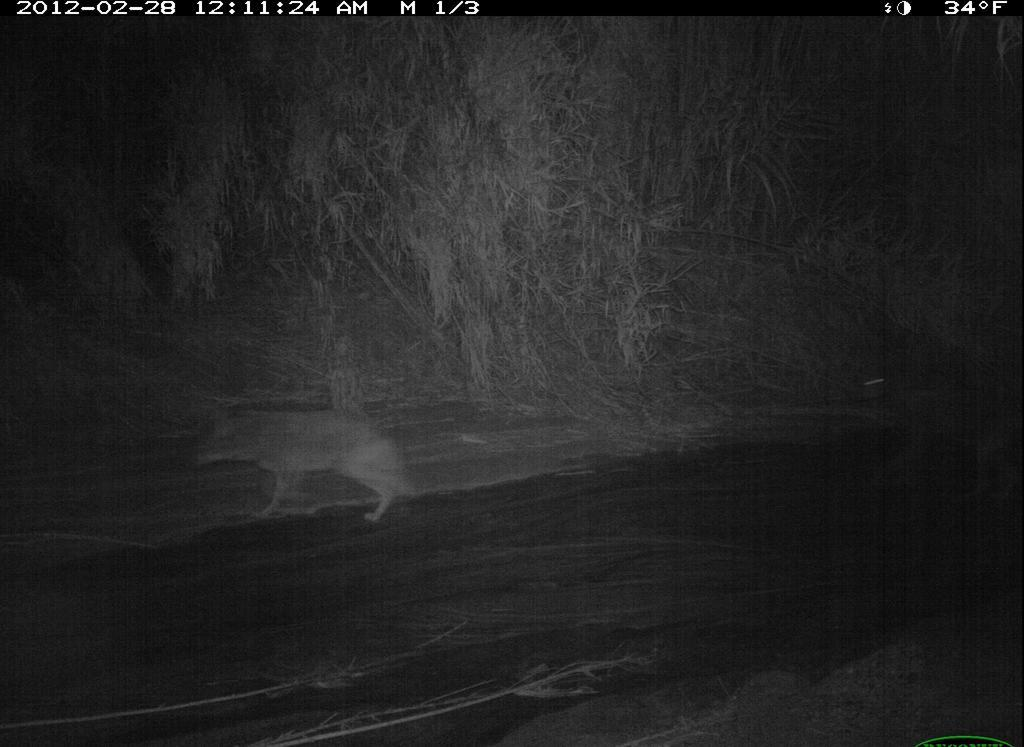coyote: (198, 379, 438, 552)
